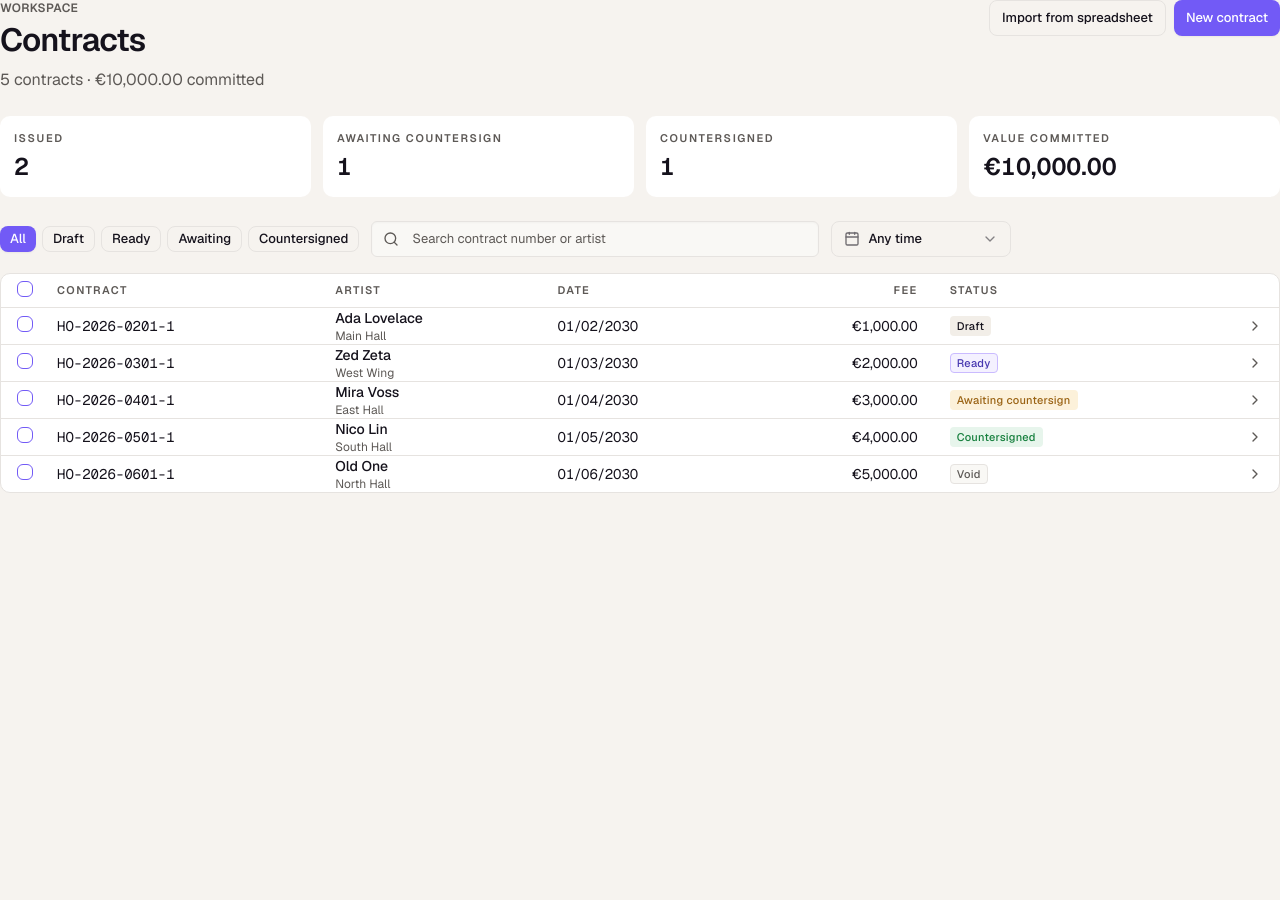
Test case: HireOrdersPage › opens the import wizard on Import from spreadsheet
This screenshot has width=1280, height=900.
Check: the heading "Contracts" is shown, box [0,19,145,60]
Click the button "Import from spreadsheet" at (1077, 18), box [989,0,1166,36]
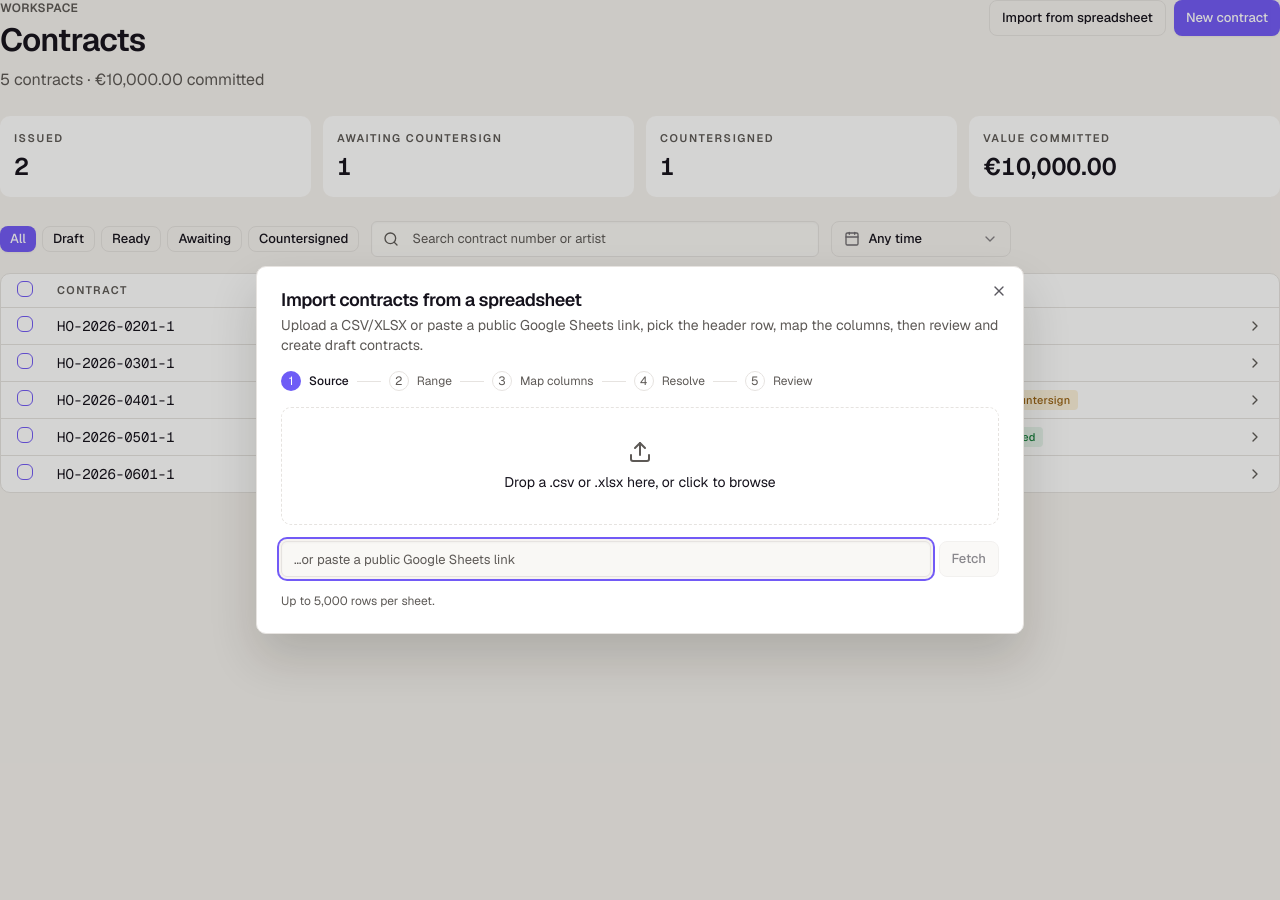
Check: the heading "Import contracts from a spreadsheet" is shown, box [281,288,582,311]
